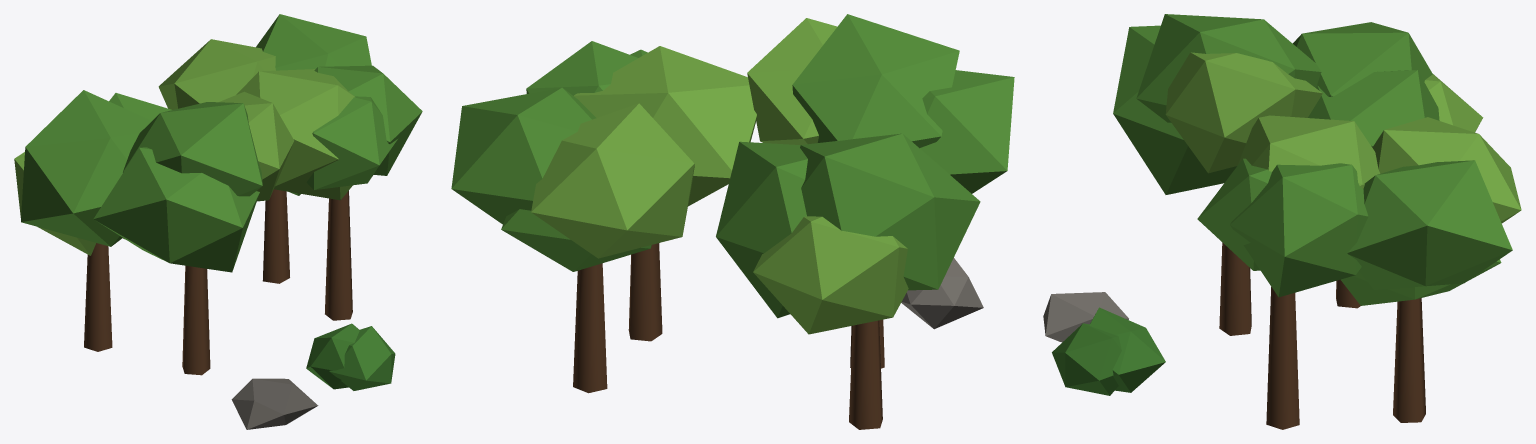
The model's file is sawyer_temperate_grove_c.glb.
The picture shows the model from 3 angles, left to right: view 1: azimuth 30°, elevation 25°; view 2: azimuth 150°, elevation 25°; view 3: azimuth 270°, elevation 25°; orthographic projection. The views are drawn at different scales.
Parts seen in each view (by area): view 1: oak_3_crown0, oak_0_crown2, oak_0_crown0, oak_2_crown1, oak_2_crown0, oak_1_crown1, oak_1_crown2, oak_2_crown2, rock_4_rock, oak_0_crown1, oak_2_trunk, oak_0_trunk (+6 smaller); view 2: oak_1_crown1, oak_3_crown0, oak_0_crown0, oak_2_crown1, oak_3_crown1, oak_1_crown2, oak_3_crown2, oak_0_crown2, oak_0_crown1, oak_1_trunk, oak_3_trunk, oak_2_crown2 (+3 smaller); view 3: oak_1_crown2, oak_2_crown2, oak_0_crown1, oak_0_crown0, oak_0_crown2, oak_1_crown1, oak_2_crown1, oak_3_crown0, oak_3_crown2, oak_2_trunk, oak_1_trunk, bush_5_leaves1 (+6 smaller).
Boxes of the visible parts, x1,y1,x2,y2 form: oak_3_crown0: (21, 90, 151, 246); oak_0_crown2: (93, 147, 259, 272); oak_0_crown0: (123, 102, 262, 196); oak_2_crown1: (236, 69, 354, 200); oak_2_crown0: (306, 96, 397, 189); oak_1_crown1: (158, 39, 275, 109); oak_1_crown2: (256, 14, 371, 70); oak_2_crown2: (314, 65, 422, 175); rock_4_rock: (231, 378, 318, 429); oak_0_crown1: (219, 91, 294, 201); oak_2_trunk: (325, 190, 352, 320); oak_0_trunk: (182, 265, 210, 375); oak_1_crown1: (531, 103, 694, 258); oak_3_crown0: (800, 133, 980, 290); oak_0_crown0: (792, 14, 959, 148); oak_2_crown1: (573, 46, 756, 206); oak_3_crown1: (753, 216, 908, 334); oak_1_crown2: (451, 87, 596, 224); oak_3_crown2: (716, 141, 807, 318); oak_0_crown2: (920, 70, 1014, 193); oak_0_crown1: (747, 18, 836, 144); oak_1_trunk: (573, 263, 607, 393); oak_3_trunk: (849, 320, 882, 429); oak_2_crown2: (526, 41, 637, 95); oak_1_crown2: (1347, 160, 1512, 289); oak_2_crown2: (1230, 163, 1368, 297); oak_0_crown1: (1165, 52, 1322, 173); oak_0_crown0: (1136, 14, 1321, 122); oak_0_crown2: (1113, 25, 1236, 194); oak_1_crown1: (1372, 117, 1521, 223); oak_2_crown1: (1238, 115, 1380, 188); oak_3_crown0: (1293, 22, 1432, 96); oak_3_crown2: (1308, 70, 1439, 147); oak_2_trunk: (1266, 287, 1299, 429); oak_1_trunk: (1393, 298, 1425, 422); bush_5_leaves1: (1052, 323, 1121, 395).
Size of the model in its own units: 4.54 by 3.28 by 4.36.
